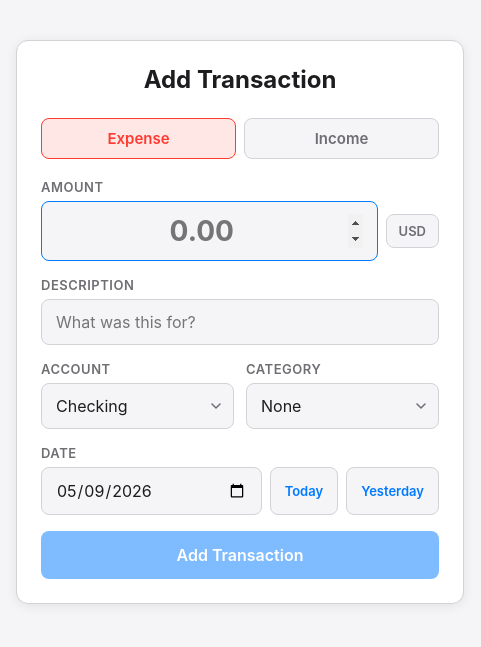
Test: AddTransactionScreen › shows error message on rpc failure
Type "50" into the number field with placeholder "0.00" at (209, 231), box x1=41 y1=201 x2=378 y2=261
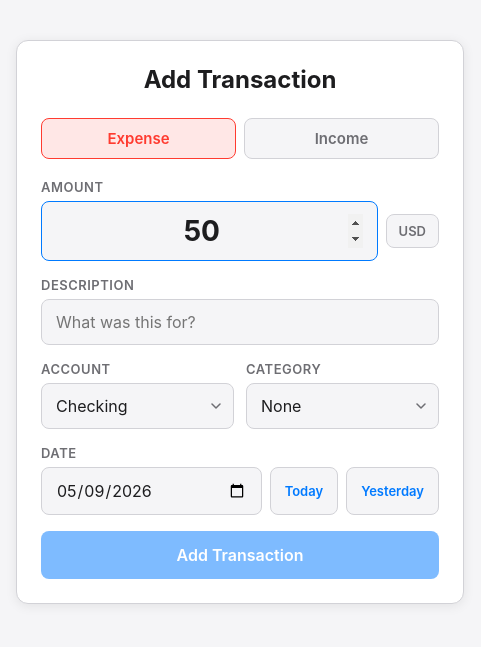
Type "Test" into the field with placeholder "What was this for?" at (240, 322), box x1=41 y1=299 x2=439 y2=345
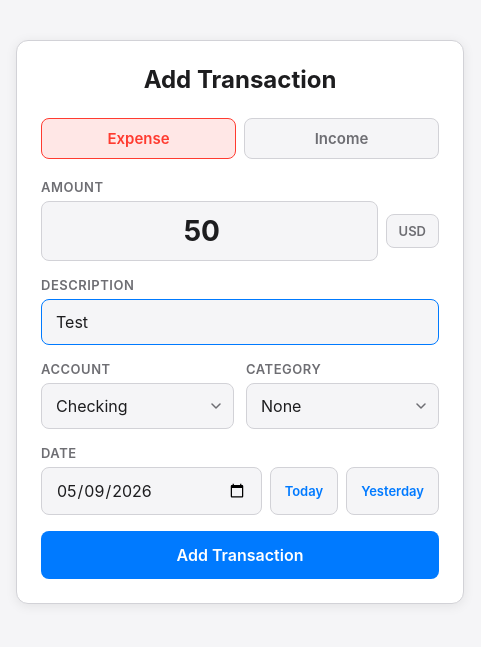
Submit the form
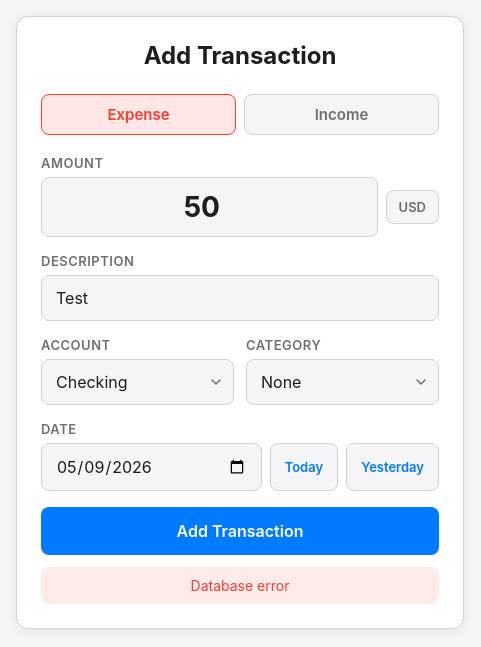
Now the text "Database error" is shown, box x1=41 y1=566 x2=439 y2=604
